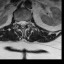CCS_normal: (21, 18, 23, 29)
LFS_normal: (27, 19, 30, 27)
LLS_normal: (24, 19, 26, 27)
RFS_normal: (16, 19, 19, 26)
RLS_normal: (19, 19, 22, 28)
